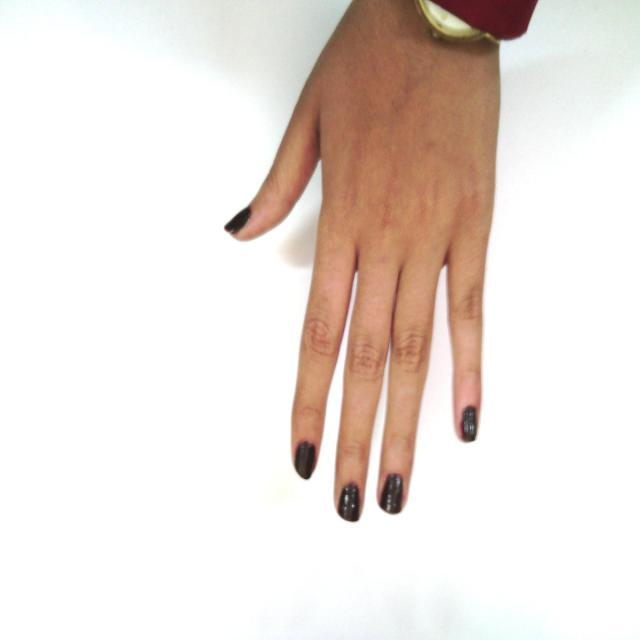Fingernail: (380, 474, 403, 514), (340, 483, 360, 521), (296, 442, 315, 480), (225, 208, 249, 233), (461, 407, 477, 441)
